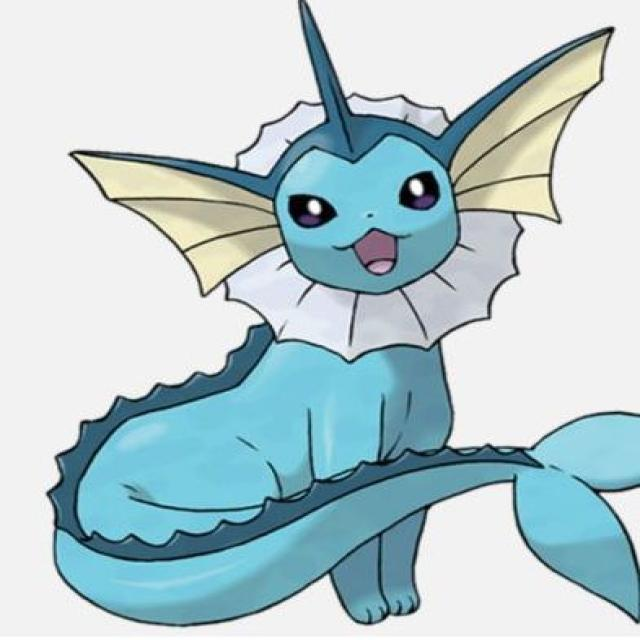Vaporeon: (90, 83, 533, 615)
